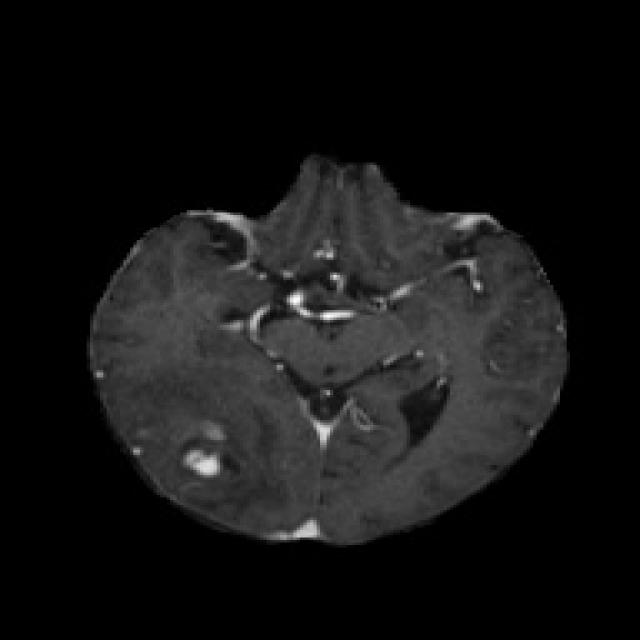positive: (178, 442, 228, 482)
